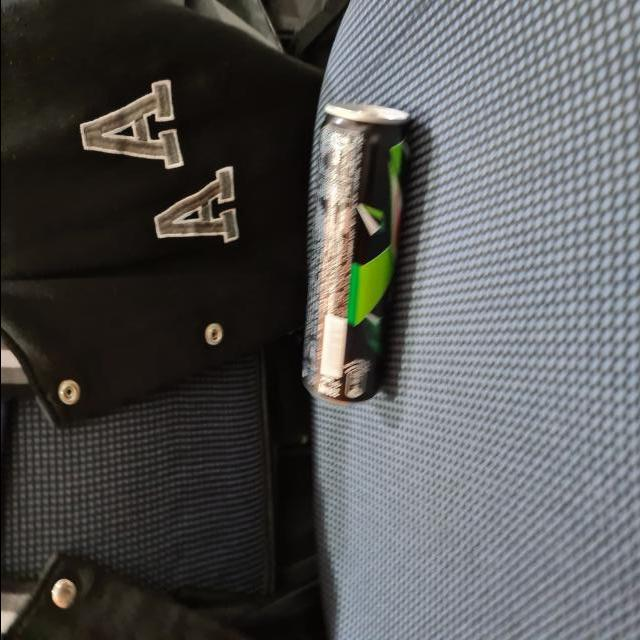can: (298, 102, 416, 410)
